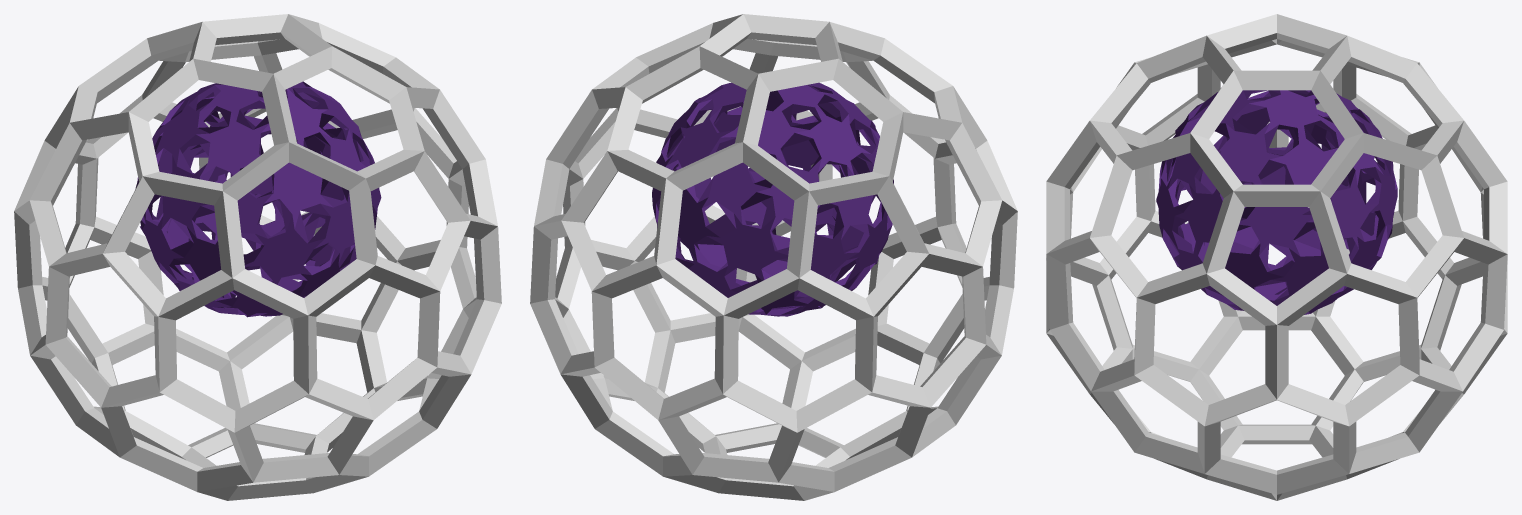
Rendered from HexagonalEnemy3Spawn.fbx.
3 views of the same model, side by side, from view 1: azimuth 30°, elevation 25°; view 2: azimuth 150°, elevation 25°; view 3: azimuth 270°, elevation 25° (orthographic).
Parts seen in each view (by area): view 1: Wireframe.001, Wireframe; view 2: Wireframe.001, Wireframe; view 3: Wireframe.001, Wireframe.
Part boxes in pixels (x1,y1,x2,y2): Wireframe.001: (14, 14, 501, 500); Wireframe: (135, 81, 381, 317); Wireframe.001: (530, 14, 1017, 500); Wireframe: (652, 82, 893, 316); Wireframe.001: (1046, 14, 1507, 500); Wireframe: (1156, 90, 1397, 314).
Bounding box in the file's own units: 197 × 190 × 187.
